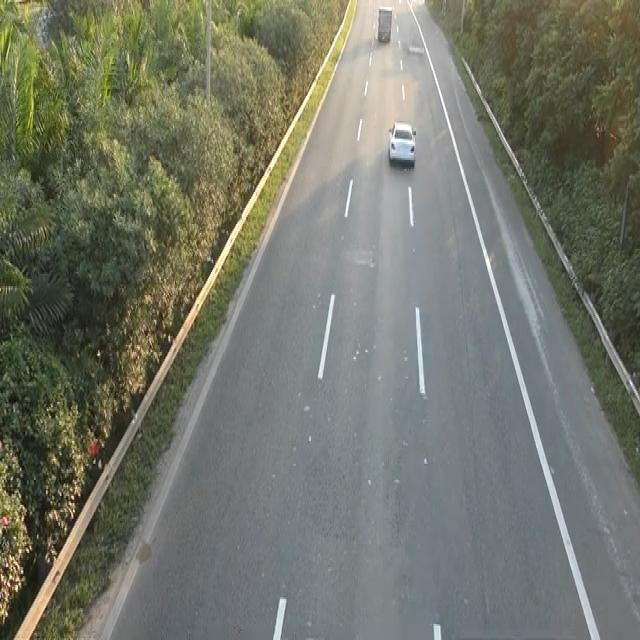bus: (385, 116, 420, 174)
minivan: (376, 3, 393, 42)
